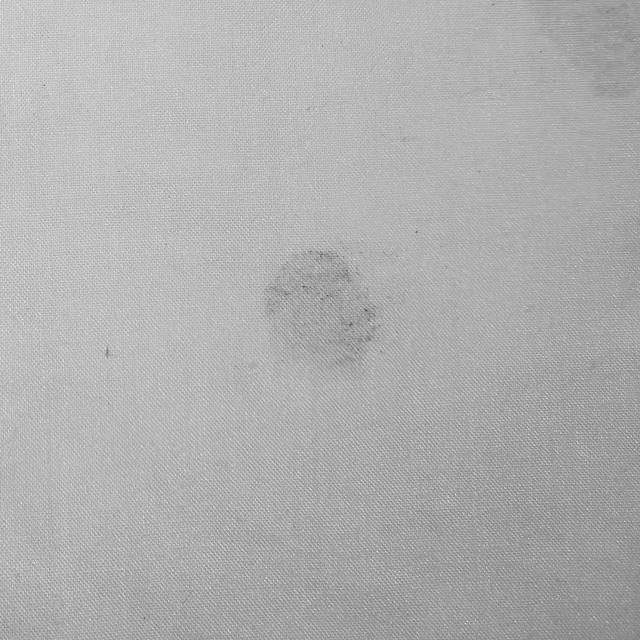Stain: (263, 250, 381, 367), (528, 0, 640, 99), (103, 345, 111, 360)
